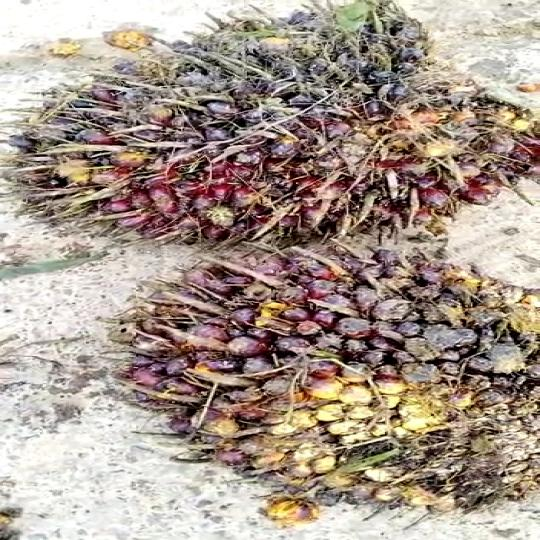kurang masak: (0, 0, 540, 246), (104, 243, 540, 534)
